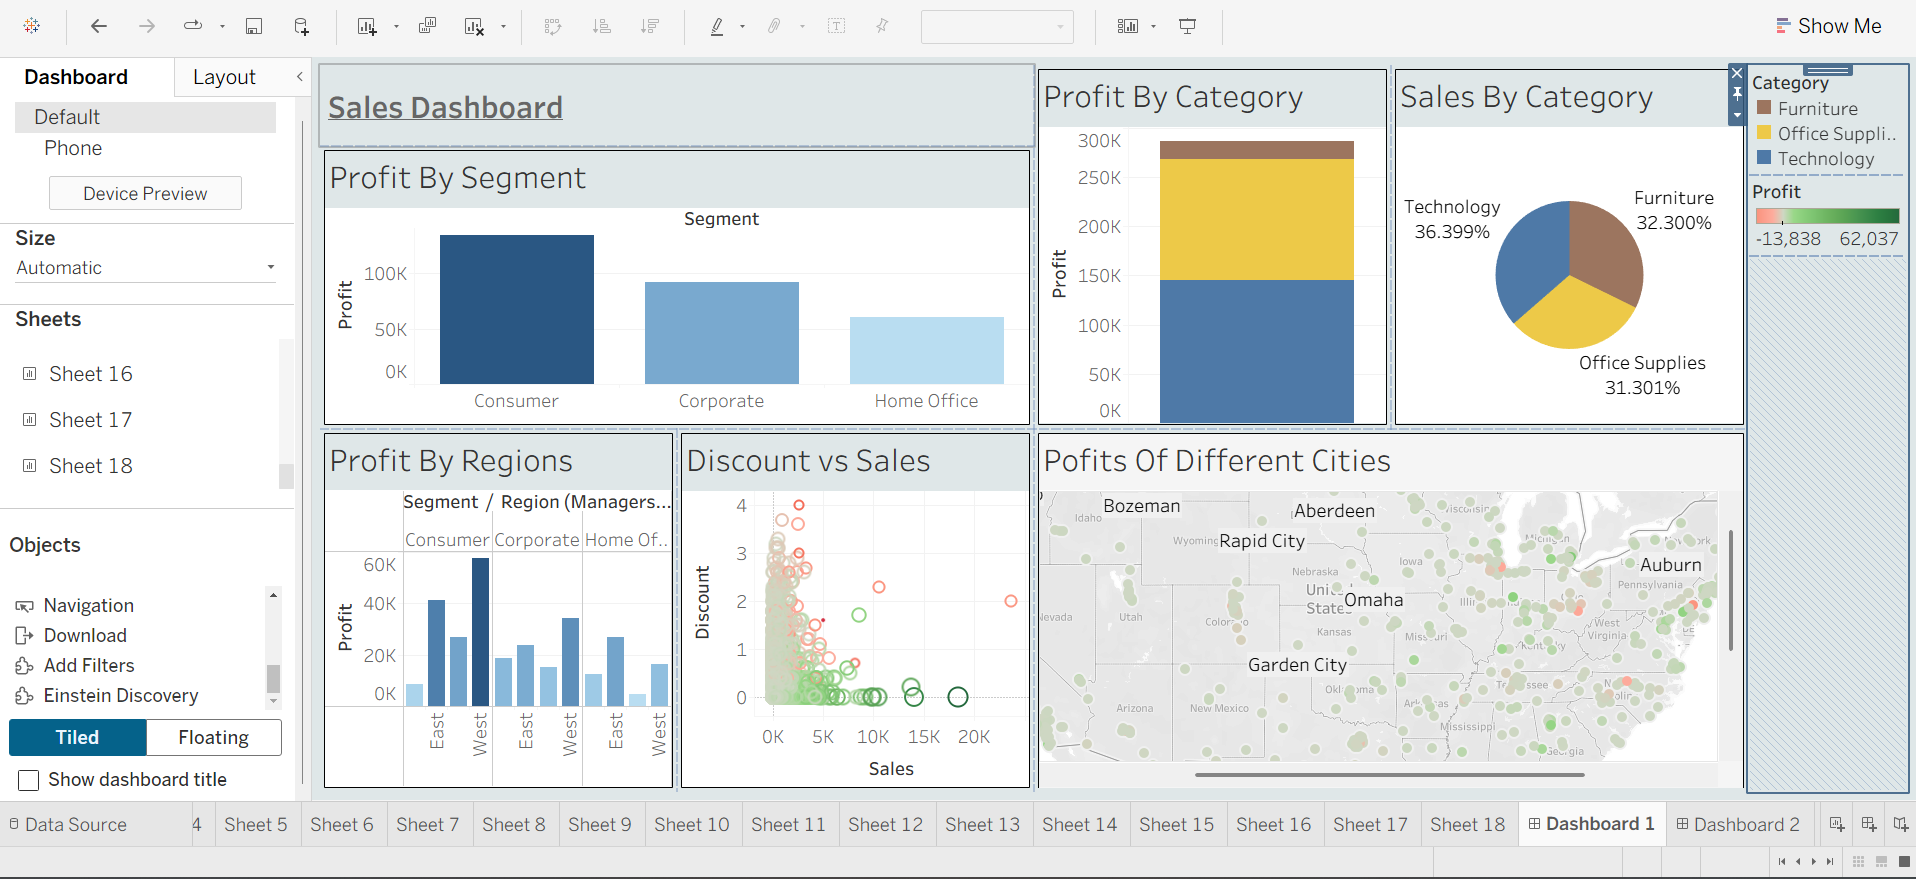

Layout of this report page (visuals, bound fields, positions):
{"tool":"tableau","page":{"name":"Dashboard 1","canvas":[1000,1000],"units":"permille","ordinal":0},"visuals":[{"type":"text","box":[4.8,10.1,447,109.2]},{"type":"worksheet","title":"Sheet 2","mark":"Automatic","rows":["Profit"],"box":[451.8,10.1,223.5,489.9]},{"type":"worksheet","title":"Sheet 5","mark":"Pie","box":[675.3,10.1,223.6,489.9]},{"type":"legend","title":"Sheet 2","param":"[federated.1dpmvu20q9jnni19j606d195f9h0].[none:Category:nk]","box":[898.9,10.1,96.3,117.6]},{"type":"worksheet","title":"Sheet 1","mark":"Automatic","rows":["Profit"],"cols":["Segment"],"box":[4.8,119.3,447,381.4]},{"type":"legend","title":"Sheet 6","param":"[federated.1dpmvu20q9jnni19j606d195f9h0].[sum:Profit:qk]","box":[898.9,127.7,96.3,92.3]},{"type":"worksheet","title":"Sheet 6","mark":"Automatic","box":[451.8,500,447.1,489.9]},{"type":"worksheet","title":"Sheet 3","mark":"Automatic","rows":["Profit"],"cols":["Segment","Region (Managers.csv1)"],"box":[4.8,500.7,223.5,489.2]},{"type":"worksheet","title":"Sheet 7","mark":"Automatic","rows":["Discount"],"cols":["Sales"],"box":[228.3,500.7,223.5,489.2]}]}

Visuals, with their boxes on the dashboard's canvas, which has no fixed pixel size, in thousandths of its width and height (x1, y1, x2, y2). These are canvas units, not pixel positions in the 1916x879 screenshot, which may show the page scaled, cropped or inside an application window:
text: left=5, top=10, right=452, bottom=119
"Sheet 2" worksheet: left=452, top=10, right=675, bottom=500
"Sheet 5" worksheet (Pie marks): left=675, top=10, right=899, bottom=500
"Sheet 2" legend: left=899, top=10, right=995, bottom=128
"Sheet 1" worksheet: left=5, top=119, right=452, bottom=501
"Sheet 6" legend: left=899, top=128, right=995, bottom=220
"Sheet 6" worksheet: left=452, top=500, right=899, bottom=990
"Sheet 3" worksheet: left=5, top=501, right=228, bottom=990
"Sheet 7" worksheet: left=228, top=501, right=452, bottom=990
